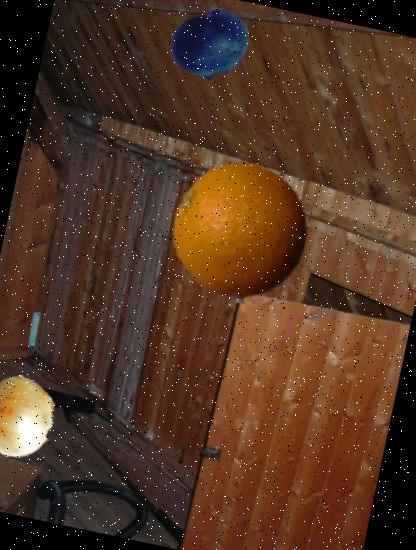Huckleberry: (163, 0, 258, 93)
Onion: (0, 367, 67, 467)
Orange: (156, 150, 322, 316)
